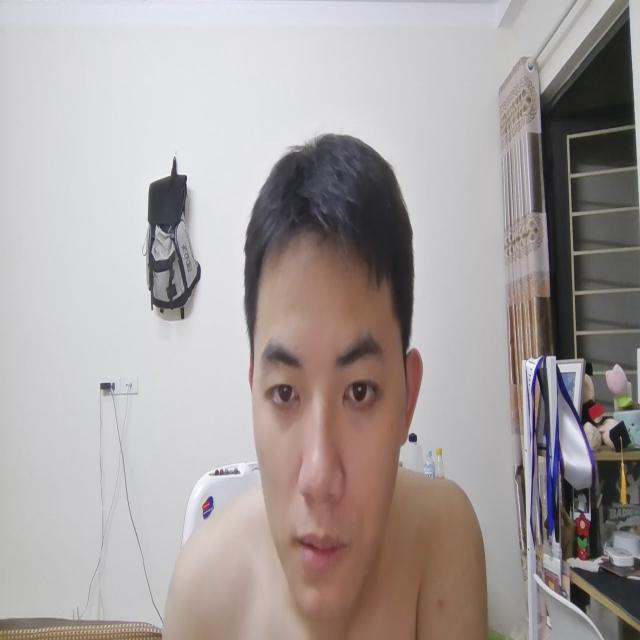student: (167, 119, 488, 640)
